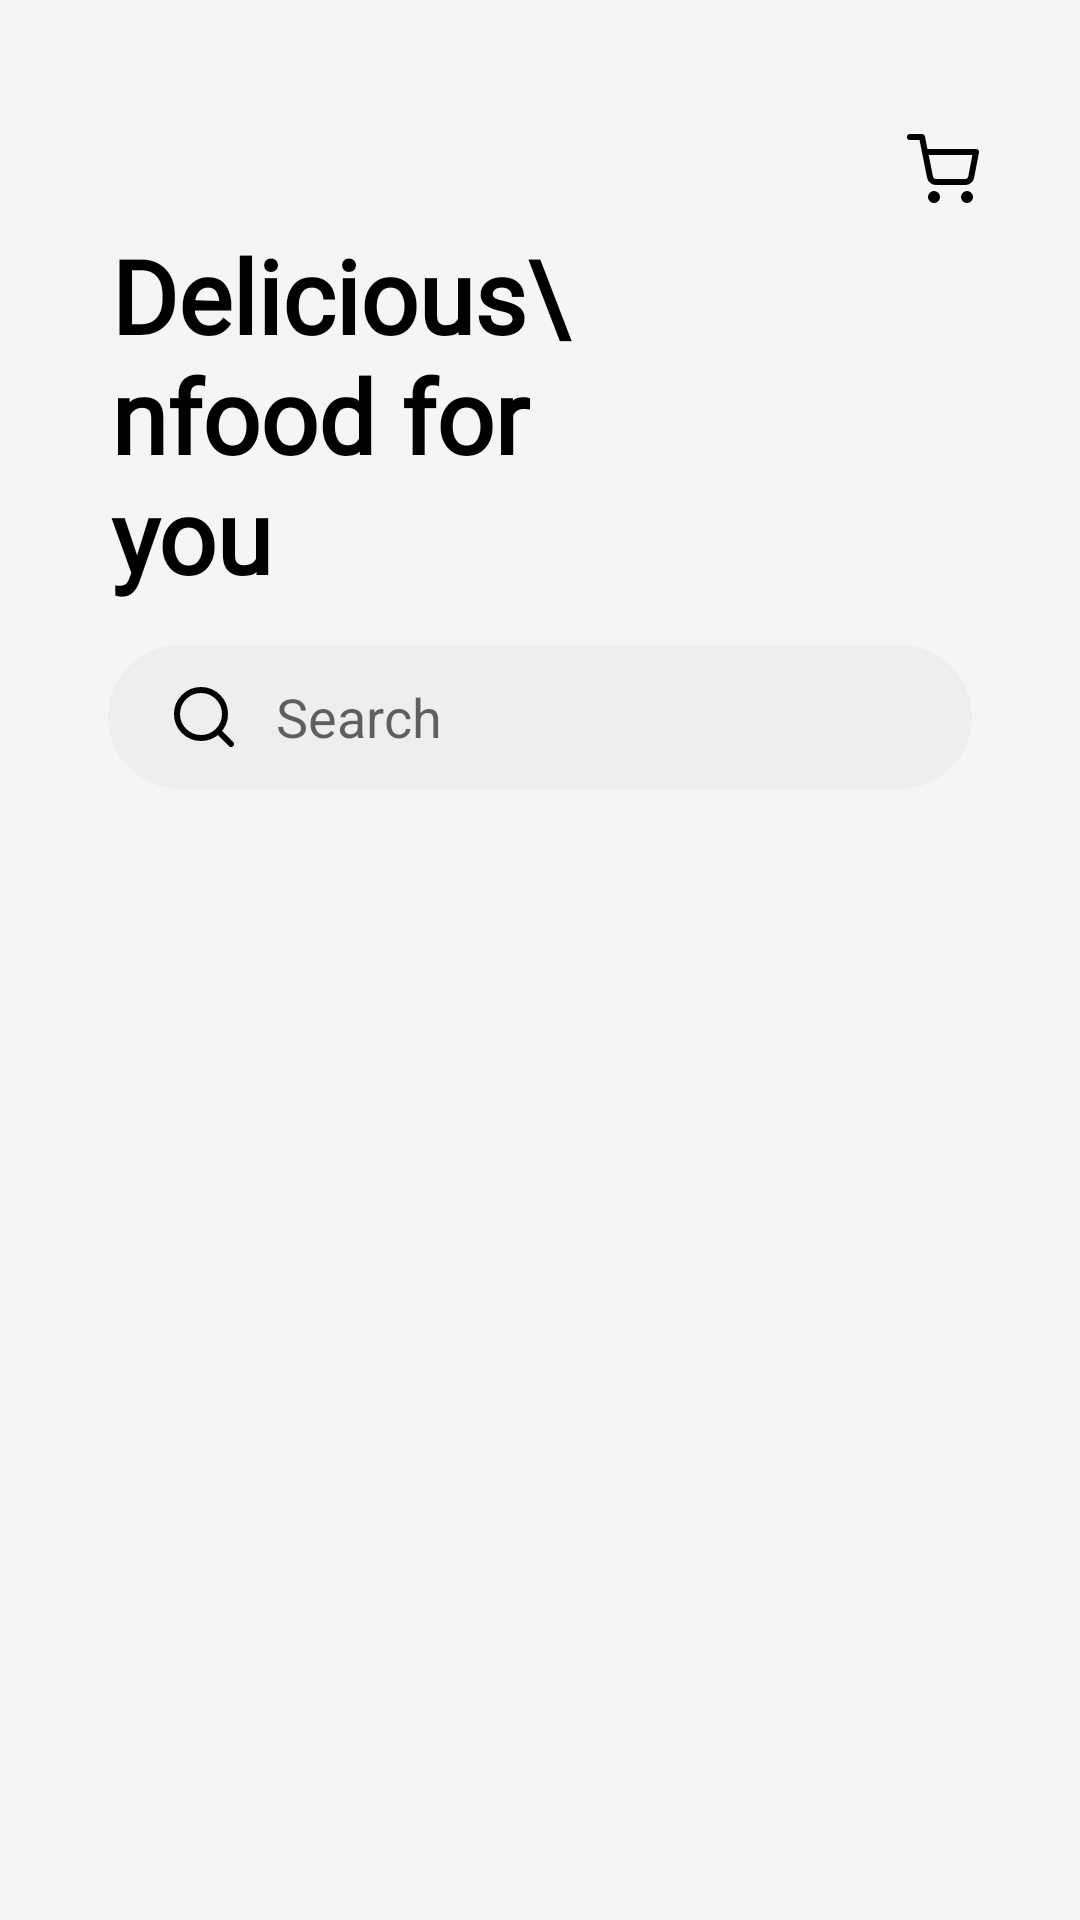

Icons on this 1080 x 1920 Android screen, each with its box as (x1, y1, x2, y2):
shopping cart: (907, 134, 979, 203)
